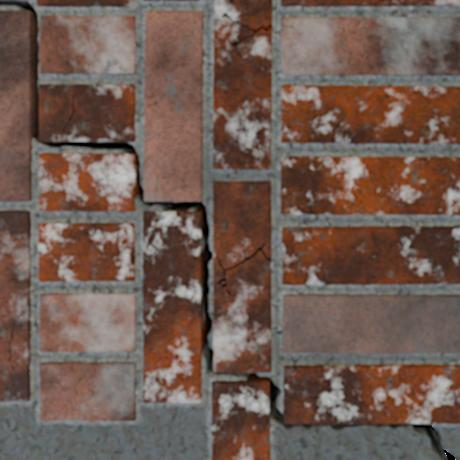brick: (144, 11, 202, 200), (143, 212, 200, 401), (283, 226, 459, 284), (281, 157, 459, 214), (281, 86, 459, 143), (283, 295, 459, 352), (284, 365, 459, 422), (281, 18, 459, 74), (213, 0, 271, 168), (214, 252, 270, 371), (0, 11, 31, 200), (0, 211, 29, 400), (40, 362, 134, 419), (40, 294, 134, 351), (39, 224, 134, 280), (39, 16, 134, 72), (39, 154, 134, 210), (39, 85, 134, 140), (213, 181, 270, 267), (212, 381, 269, 459), (281, 0, 376, 5), (37, 0, 131, 5), (377, 0, 459, 5)
crack: (0, 0, 459, 459), (221, 12, 272, 47), (373, 0, 385, 5), (281, 109, 288, 113)
